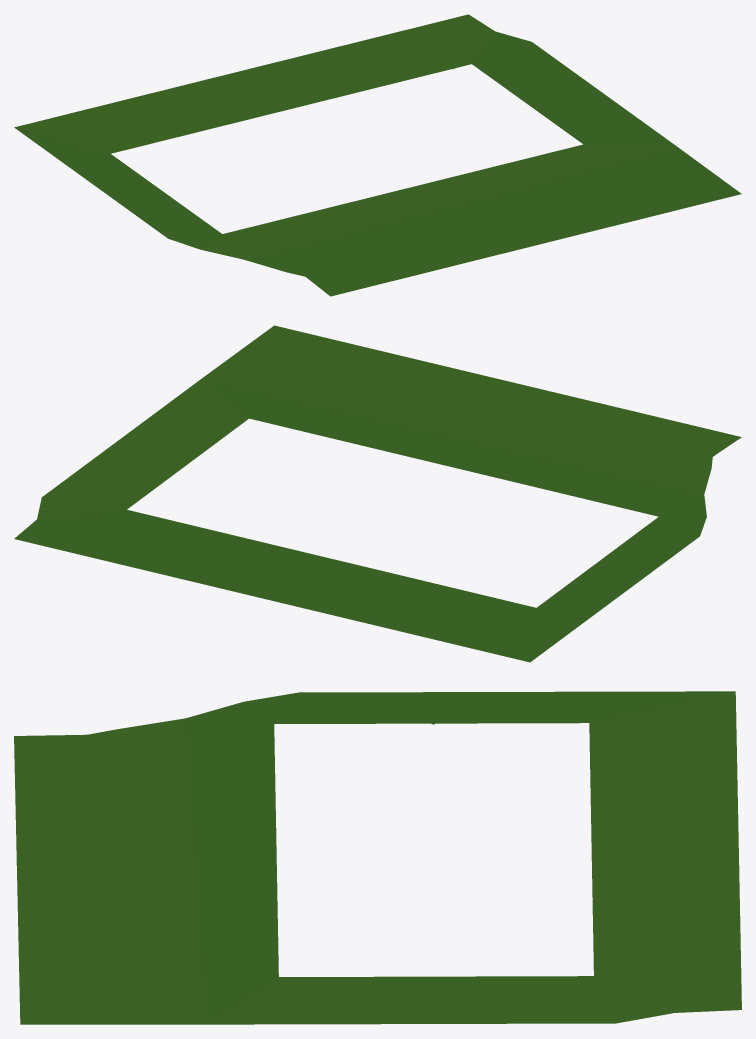
File: Berma.fbx
3 renders of one model, top to bottom at view 1: azimuth 30°, elevation 25°; view 2: azimuth 150°, elevation 25°; view 3: azimuth 270°, elevation 25°, orthographic. The views are drawn at different scales.
Parts seen in each view (by area): view 1: Ground; view 2: Ground; view 3: Ground.
Boxes of the visible parts, bbox=[...] form: Ground: bbox=[14, 14, 741, 296]; Ground: bbox=[14, 325, 741, 662]; Ground: bbox=[14, 691, 741, 1024].
Bounding box in the file's own units: 29689 × 98 × 27409.
